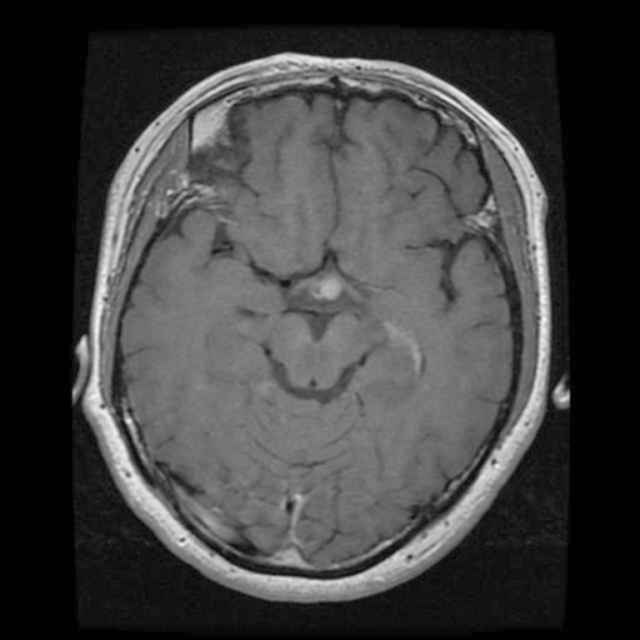no tumor: (300, 264, 354, 302)
